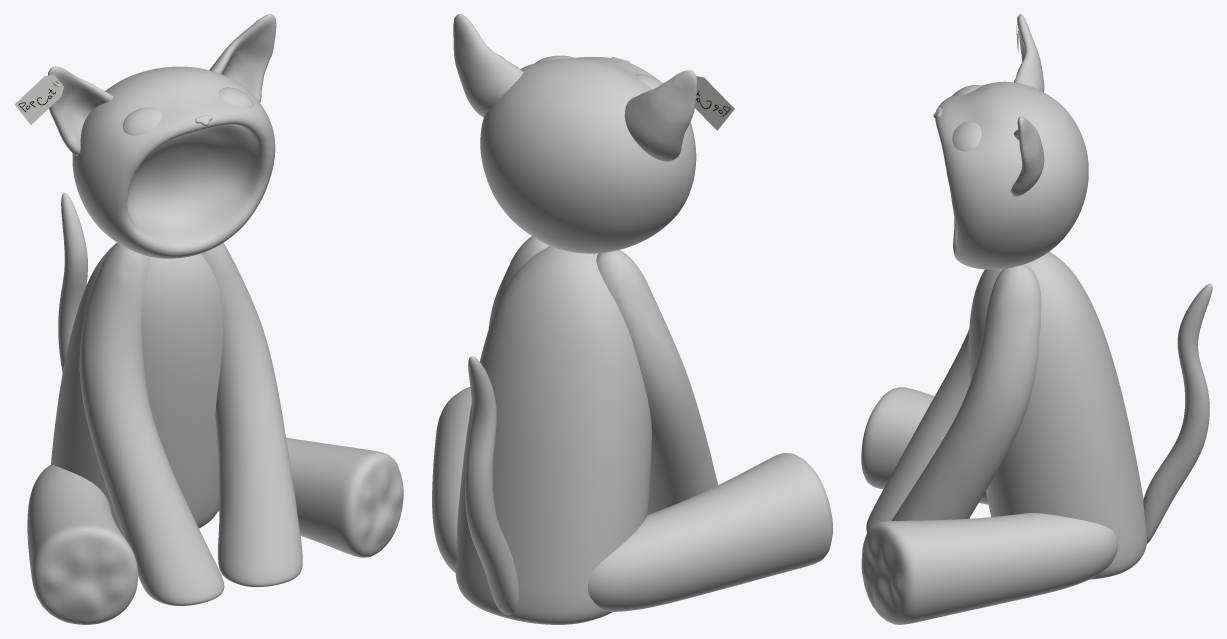
Rendered from popCat.fbx.
3 renders of one model, left to right at view 1: azimuth 30°, elevation 25°; view 2: azimuth 150°, elevation 25°; view 3: azimuth 270°, elevation 25°, orthographic. The views are drawn at different scales.
Visible parts, largest first — view 1: Cube.002, Cube, Cube.003, Cube.001, Sphere.001, Cube.004, Sphere, Plane.002; view 2: Cube.001, Cube, Cube.003, Cube.002, Sphere.001, Cube.004, Plane.002; view 3: Cube.001, Cube.003, Cube.002, Cube, Cube.004, Sphere.001, Sphere.
Part boxes in pixels (x1,y1,x2,y2): Cube.002: (79, 243, 302, 605); Cube: (72, 66, 275, 258); Cube.003: (27, 437, 403, 624); Cube.001: (51, 243, 222, 534); Sphere.001: (48, 14, 276, 155); Cube.004: (58, 192, 87, 372); Sphere: (122, 87, 253, 135); Plane.002: (14, 74, 63, 124); Cube.001: (455, 246, 651, 624); Cube: (480, 57, 696, 253); Cube.003: (432, 387, 832, 611); Cube.002: (488, 236, 717, 514); Sphere.001: (453, 14, 697, 161); Cube.004: (465, 356, 519, 615); Plane.002: (695, 76, 734, 130); Cube.001: (968, 251, 1146, 579); Cube.003: (861, 387, 1118, 624); Cube.002: (866, 264, 1041, 532); Cube: (935, 81, 1088, 269); Cube.004: (1143, 283, 1212, 543); Sphere.001: (1010, 14, 1044, 196); Sphere: (952, 85, 981, 151).
Bounding box in the file's own units: 737 × 955 × 625.
